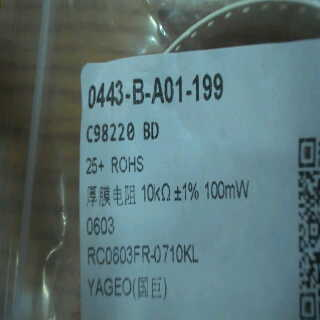10kR: (141, 181, 172, 205)
